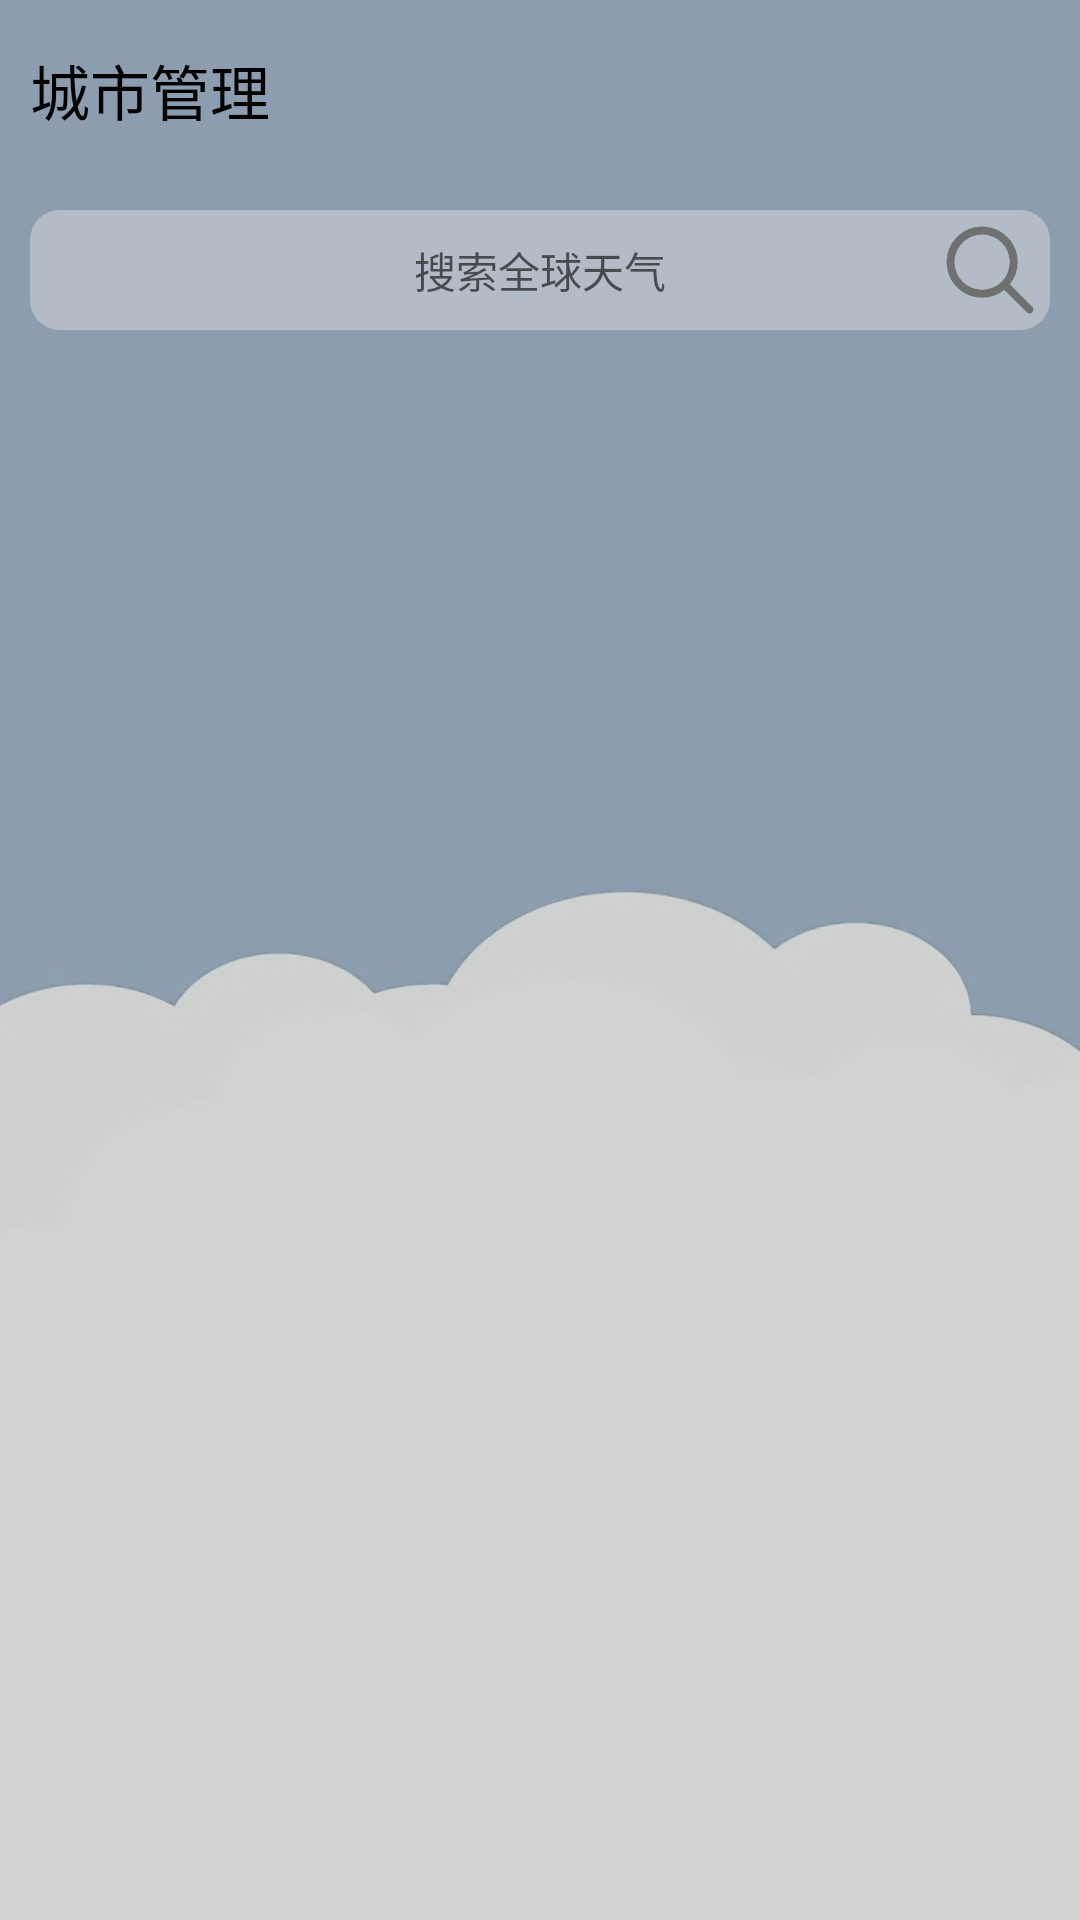

Where to tap for icons on this 1080x1920 app screen, as (x,y):
find: (990,270)
